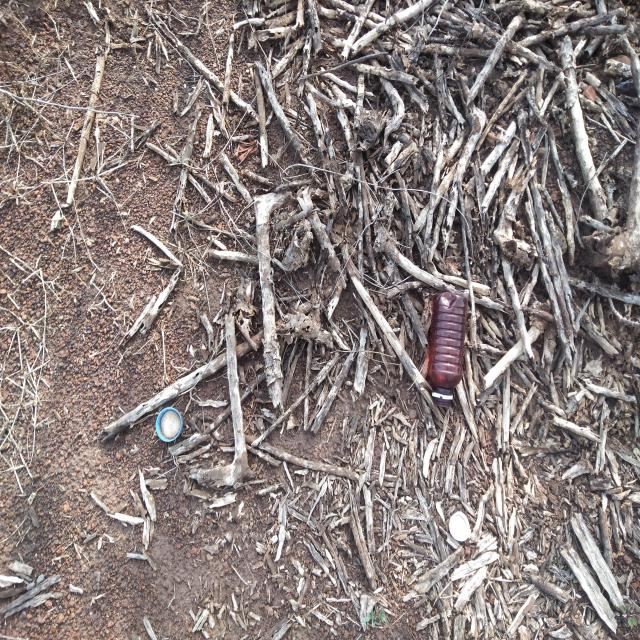Clear plastic bottle: (428, 292, 468, 407)
Plastic bottle cap: (156, 407, 184, 442), (449, 511, 470, 541)
